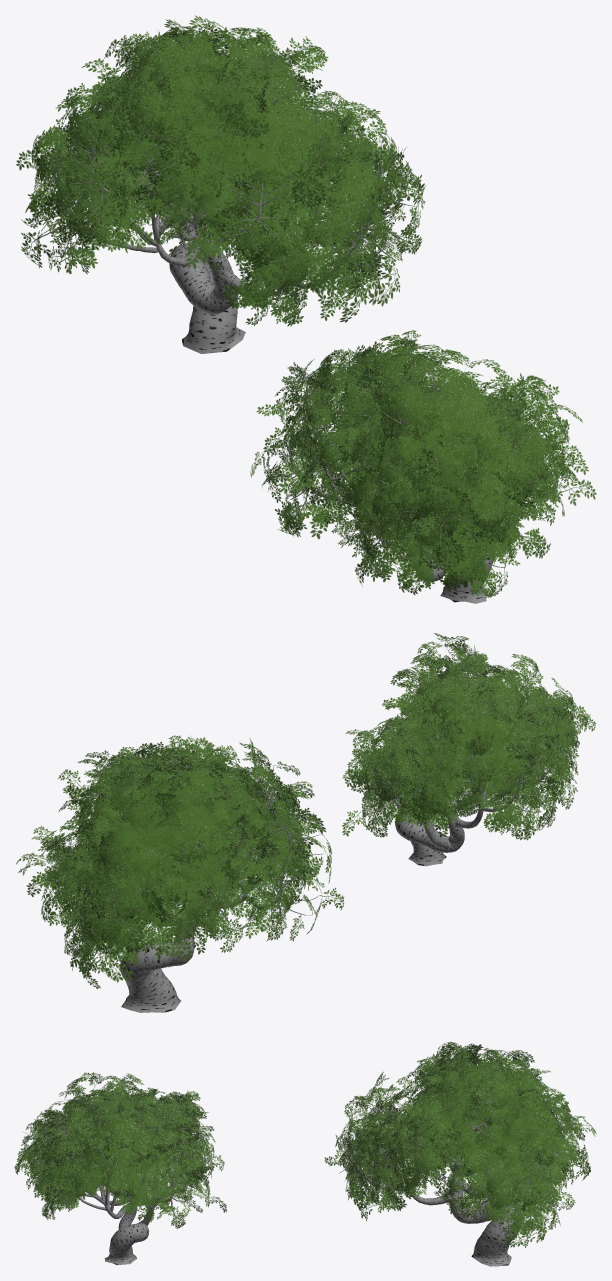
The model's file is flora-coastal-trees.glb.
3 renders of one model, top to bottom at view 1: azimuth 30°, elevation 25°; view 2: azimuth 150°, elevation 25°; view 3: azimuth 270°, elevation 25°, orthographic. The views are drawn at different scales.
Parts seen in each view (by area): view 1: Flora_Coastal_FP_Tree_A_001, Flora_Coastal_FP_Tree_A_004; view 2: Flora_Coastal_FP_Tree_A_001, Flora_Coastal_FP_Tree_A_004; view 3: Flora_Coastal_FP_Tree_A_001, Flora_Coastal_FP_Tree_A_004.
Boxes of the visible parts, x1,y1,x2,y2 form: Flora_Coastal_FP_Tree_A_001: (16, 15, 425, 353); Flora_Coastal_FP_Tree_A_004: (250, 330, 596, 603); Flora_Coastal_FP_Tree_A_001: (16, 735, 343, 1012); Flora_Coastal_FP_Tree_A_004: (342, 633, 595, 866); Flora_Coastal_FP_Tree_A_001: (324, 1041, 596, 1266); Flora_Coastal_FP_Tree_A_004: (14, 1072, 226, 1265).
Bounding box in the file's own units: 4.78 × 4.15 × 10.42.
4 materials, 4 textured.
